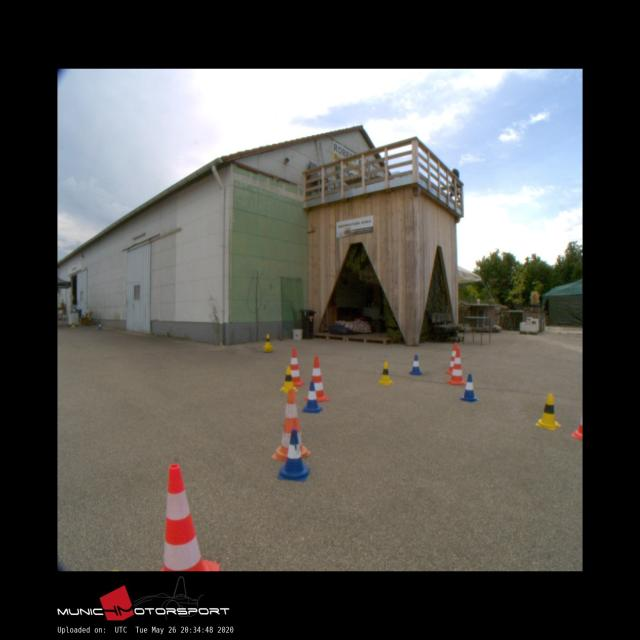blue_cone: (277, 430, 310, 480), (302, 382, 322, 413), (460, 374, 478, 400), (410, 355, 421, 374)
large_orange_cone: (159, 464, 220, 571), (272, 389, 309, 461), (304, 356, 328, 402), (447, 348, 465, 384), (287, 348, 304, 385), (446, 343, 461, 373)
yellow_cone: (535, 394, 560, 429), (279, 366, 297, 392), (378, 361, 392, 383), (263, 333, 272, 346)
